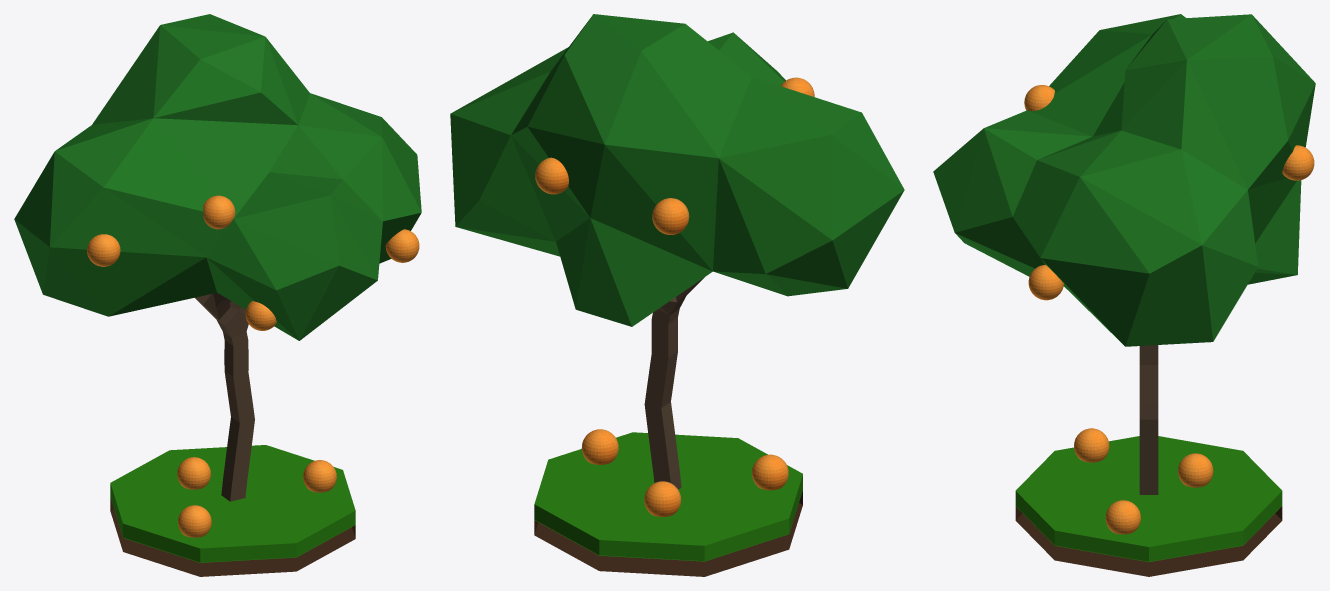
File: orange_tree_small.glb
The picture shows the model from 3 angles, left to right: view 1: azimuth 30°, elevation 25°; view 2: azimuth 150°, elevation 25°; view 3: azimuth 270°, elevation 25°; orthographic projection. The views are drawn at different scales.
Parts seen in each view (by area): view 1: Mball.008, Circle, Vert, Sphere.005, Sphere.007, Sphere.008, Sphere.006, Sphere, Sphere.002, Sphere.001; view 2: Mball.008, Circle, Vert, Sphere.003, Sphere.007, Sphere.005, Sphere.008, Sphere.004; view 3: Mball.008, Circle, Vert, Sphere.005, Sphere.007, Sphere.008, Sphere.002, Sphere.004, Sphere.006.
Part boxes in pixels (left/top/right/bottom): Mball.008: left=14, top=14, right=421, bottom=340; Circle: left=110, top=445, right=355, bottom=576; Vert: left=195, top=293, right=254, bottom=501; Sphere.005: left=303, top=460, right=336, bottom=492; Sphere.007: left=178, top=505, right=211, bottom=537; Sphere.008: left=177, top=457, right=210, bottom=489; Sphere.006: left=203, top=195, right=235, bottom=229; Sphere: left=87, top=234, right=120, bottom=266; Sphere.002: left=385, top=229, right=419, bottom=262; Sphere.001: left=245, top=301, right=276, bottom=330; Mball.008: left=450, top=14, right=904, bottom=326; Circle: left=534, top=432, right=802, bottom=576; Vert: left=644, top=277, right=704, bottom=489; Sphere.003: left=652, top=198, right=689, bottom=234; Sphere.007: left=752, top=454, right=788, bottom=490; Sphere.005: left=581, top=429, right=618, bottom=464; Sphere.008: left=644, top=481, right=681, bottom=516; Sphere.004: left=535, top=157, right=568, bottom=194; Mball.008: left=933, top=14, right=1315, bottom=346; Circle: left=1015, top=436, right=1282, bottom=576; Vert: left=1139, top=345, right=1158, bottom=494; Sphere.005: left=1105, top=500, right=1140, bottom=534; Sphere.007: left=1074, top=428, right=1109, bottom=462; Sphere.008: left=1178, top=453, right=1213, bottom=487; Sphere.002: left=1028, top=265, right=1063, bottom=300; Sphere.004: left=1282, top=145, right=1314, bottom=180; Sphere.006: left=1024, top=85, right=1054, bottom=110.
Bounding box in the file's own units: 7.86 × 9.2 × 6.45.
Materials: 13 (9 with a texture image).
